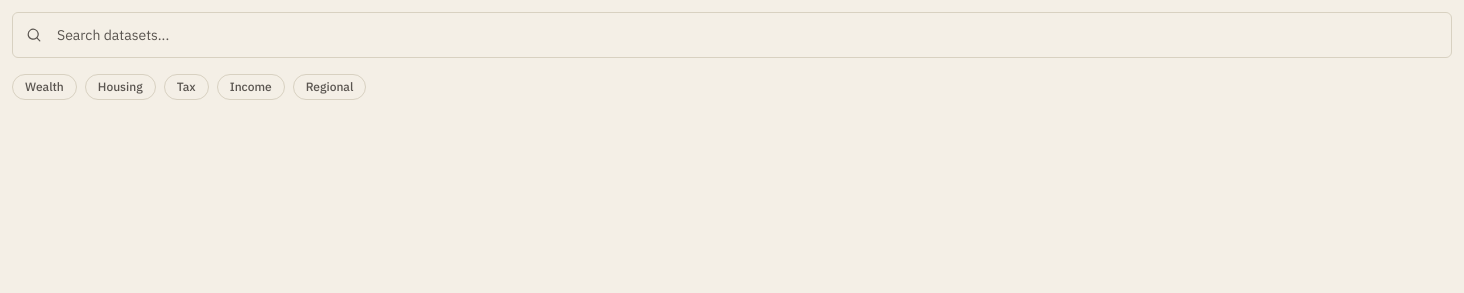
Test case: DatasetSearch › clear button removes query text
Type "housing" into the dropdown with placeholder "Search datasets..." at (732, 35), box top-left (12, 12), bottom-right (1452, 58)
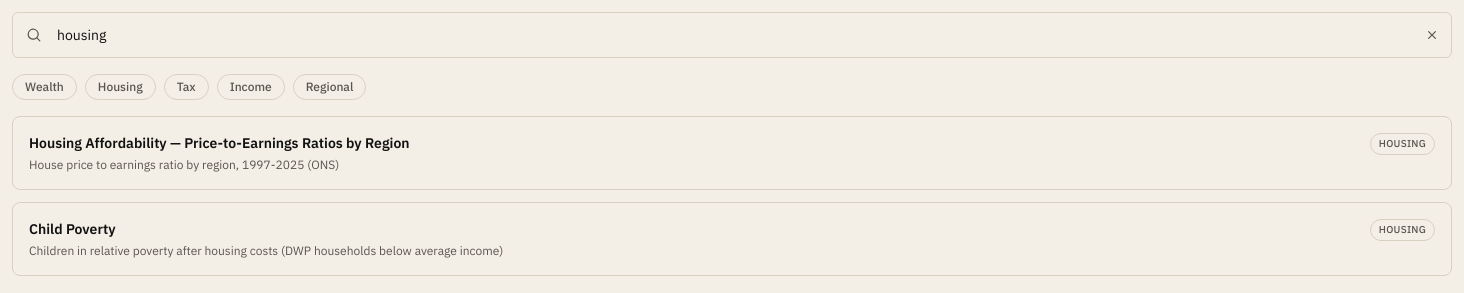
Expected: the button named "Clear search" is shown
Click the button named "Clear search" at (1432, 35), box top-left (1424, 27), bottom-right (1440, 43)
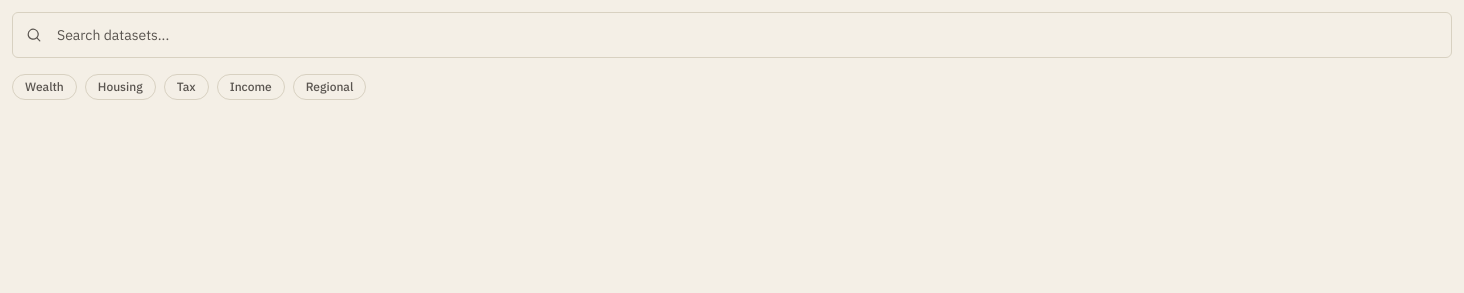
Expected: the dropdown with placeholder "Search datasets..." is empty, top-left (12, 12), bottom-right (1452, 58)
